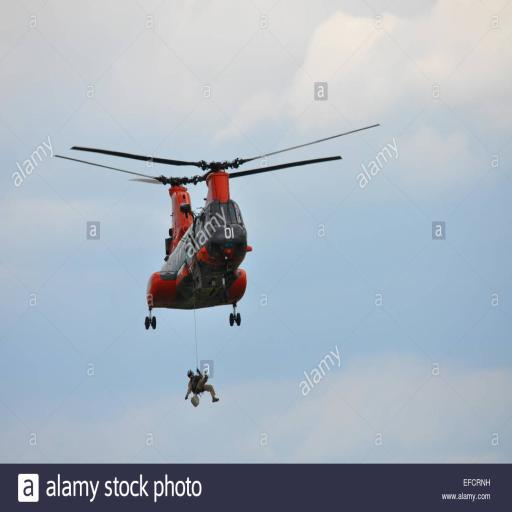helicopter: (55, 126, 379, 330)
